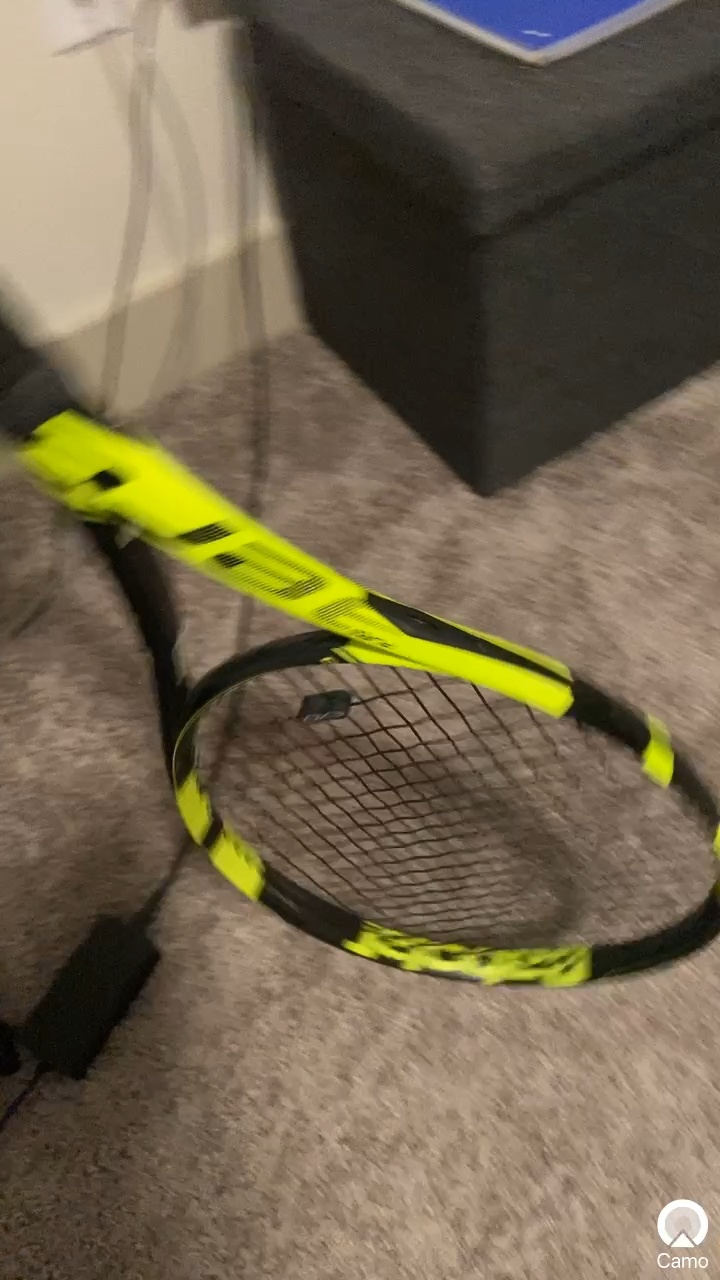Tennis_Racquet: (4, 270, 720, 1002)
